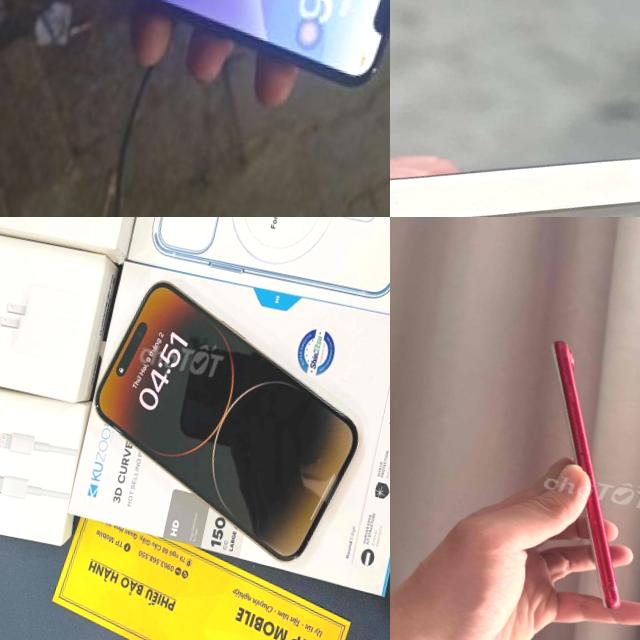scratch: (596, 572, 620, 592), (576, 450, 594, 472), (590, 514, 602, 529)
